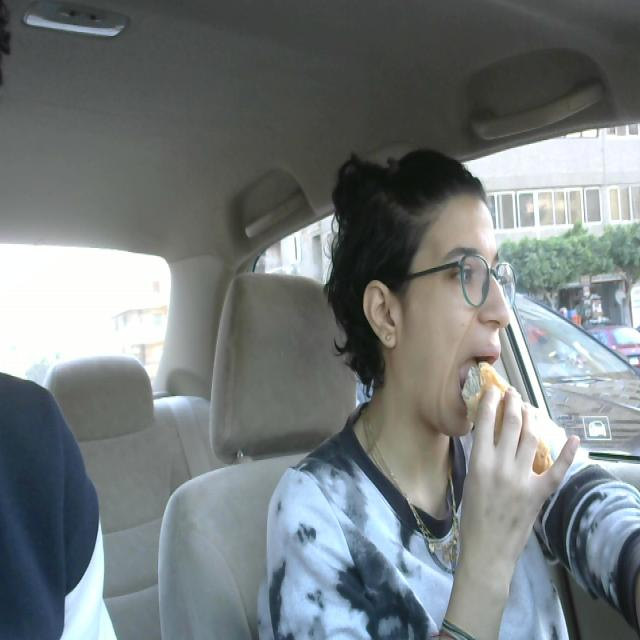eating: (455, 347, 558, 480)
